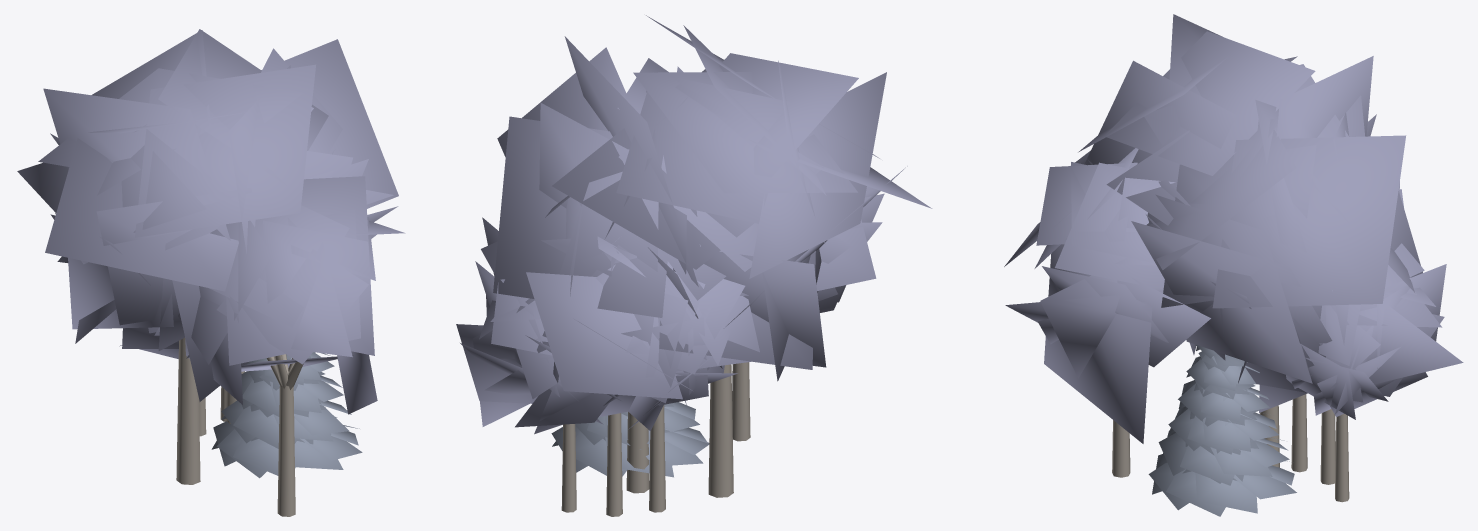
The picture shows the model from 3 angles, left to right: view 1: azimuth 30°, elevation 25°; view 2: azimuth 150°, elevation 25°; view 3: azimuth 270°, elevation 25°; orthographic projection. The views are drawn at different scales.
Visible parts, largest first — view 1: leaves, bark; view 2: leaves, bark; view 3: leaves, bark.
Boxes of the visible parts, left/top/right/bottom form: leaves: left=17, top=29, right=405, bottom=478; bark: left=176, top=337, right=303, bottom=516; leaves: left=456, top=15, right=932, bottom=477; bark: left=561, top=362, right=750, bottom=516; leaves: left=1004, top=14, right=1463, bottom=516; bark: left=1112, top=394, right=1349, bottom=502.
Size of the model in its own units: 23.86 by 25.2 by 27.55.
